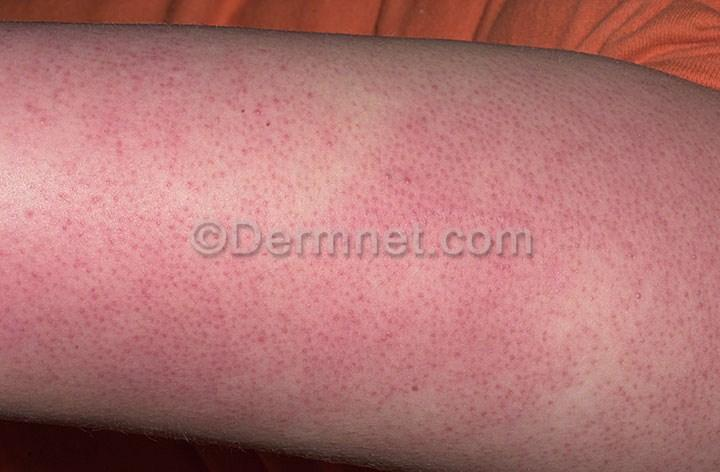edema 1: (0, 24, 719, 471), (1, 26, 719, 463)
